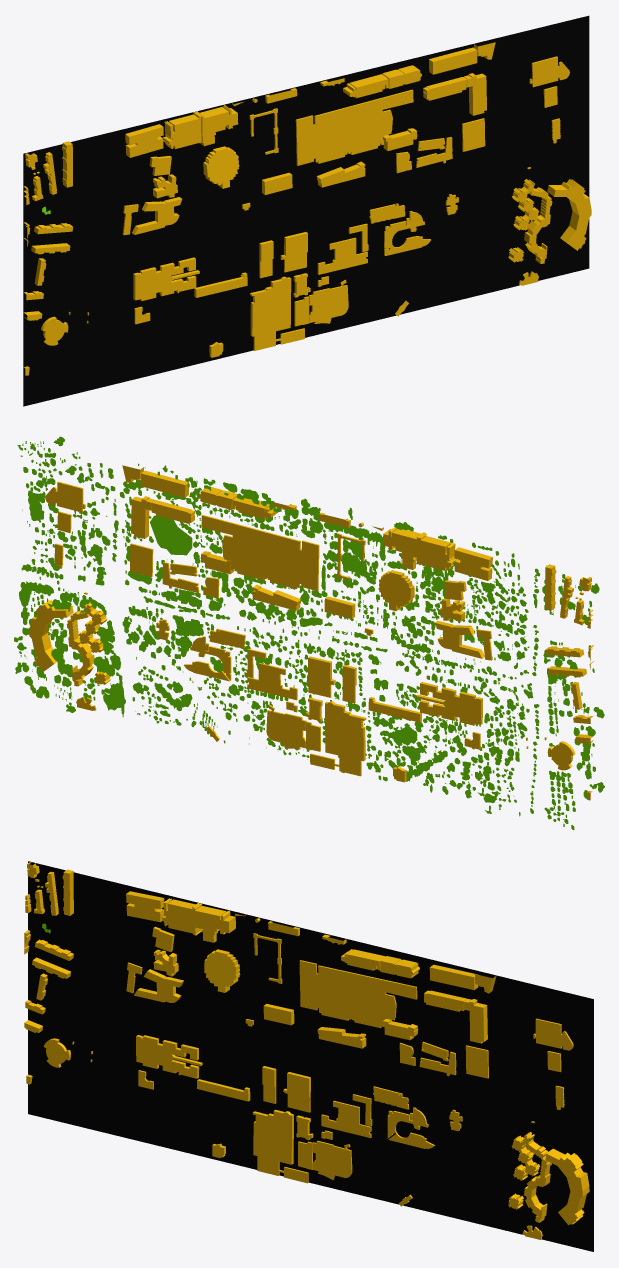
File: new_trees_10.glb
The picture shows the model from 3 angles, top to bottom: view 1: azimuth 30°, elevation 25°; view 2: azimuth 150°, elevation 25°; view 3: azimuth 330°, elevation 25°; orthographic projection.
Parts seen in each view (by area): view 1: Layer 04, existing_building - Copy; view 2: existing_building - Copy, new trees, treesurface; view 3: Layer 04, existing_building - Copy.
Part boxes in pixels (x1,y1,x2,y2): Layer 04: (23,15,589,406); existing_building - Copy: (23,42,591,375); existing_building - Copy: (29,465,593,800); new trees: (19,441,599,828); treesurface: (14,436,604,830); Layer 04: (28,861,593,1251); existing_building - Copy: (24,862,589,1239).
Bounding box in the file's own units: 1035 × 458 × 20.85.
